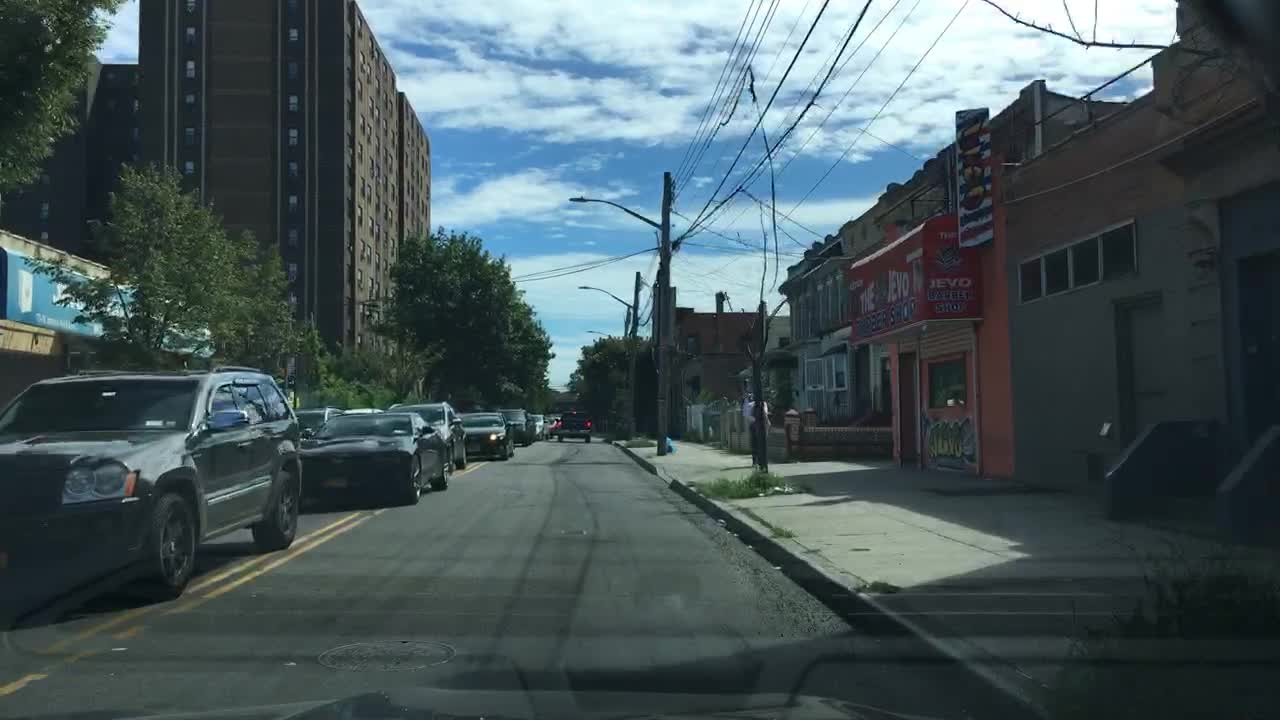car: (1, 366, 303, 605), (301, 408, 456, 506), (390, 401, 468, 466), (457, 409, 513, 456), (498, 408, 533, 447), (552, 409, 592, 443), (291, 409, 335, 438), (531, 414, 552, 439), (546, 415, 561, 435)
person: (742, 392, 772, 473)
